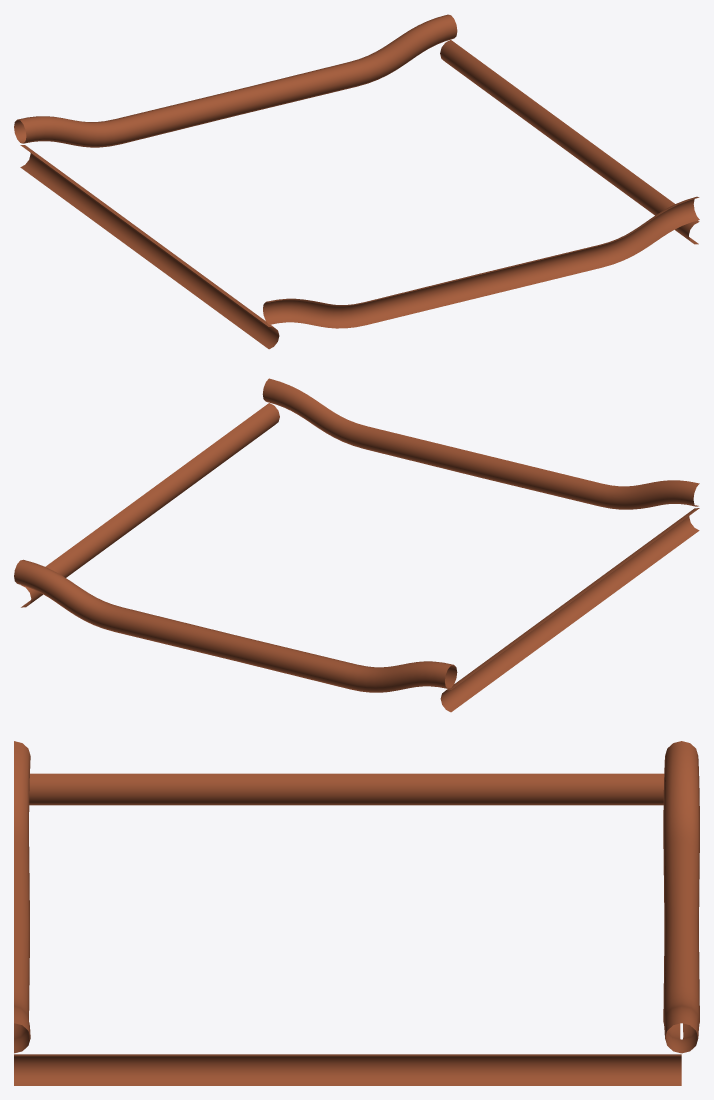
File: SM_tileSol_Border_TopBot.fbx
3 renders of one model, top to bottom at view 1: azimuth 30°, elevation 25°; view 2: azimuth 150°, elevation 25°; view 3: azimuth 270°, elevation 25°, orthographic. The views are drawn at different scales.
Parts seen in each view (by area): view 1: SM_tileSol_Border_TopBot; view 2: SM_tileSol_Border_TopBot; view 3: SM_tileSol_Border_TopBot.
Part boxes in pixels (bbox=[...]): SM_tileSol_Border_TopBot: bbox=[14, 14, 699, 349]; SM_tileSol_Border_TopBot: bbox=[14, 378, 699, 712]; SM_tileSol_Border_TopBot: bbox=[14, 741, 699, 1085].
Bounding box in the file's own units: 200 × 20.84 × 205.
